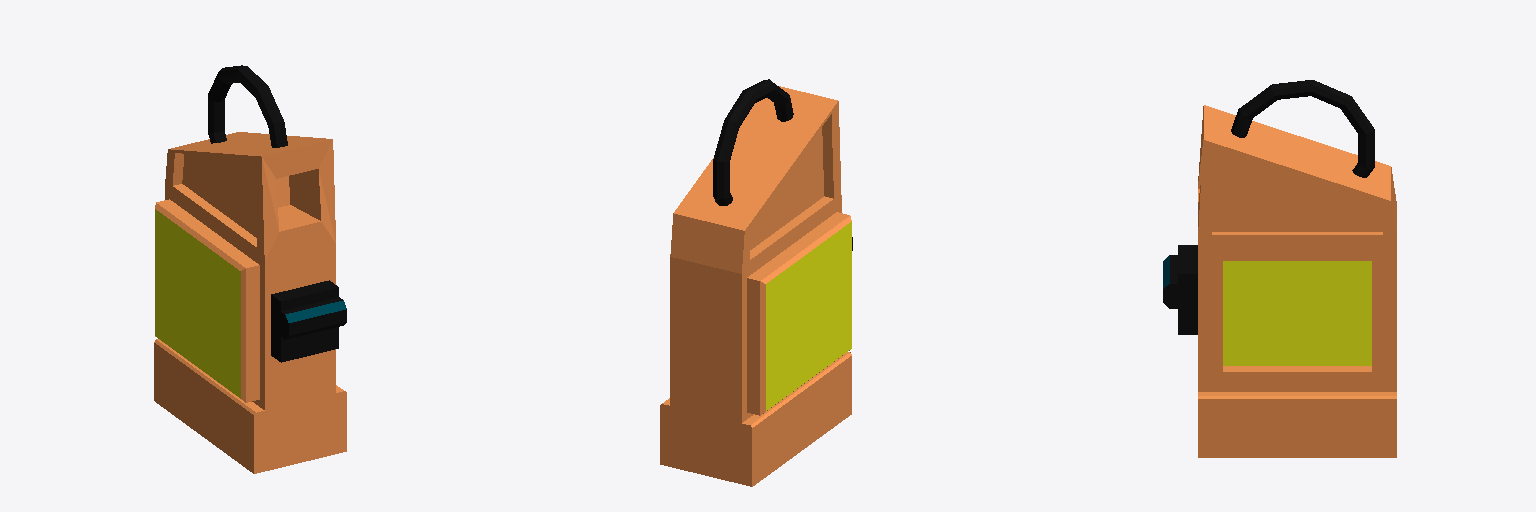
The model's file is Battery_Dispencer.obj.
The picture shows the model from 3 angles: view 1: azimuth 30°, elevation 25°; view 2: azimuth 150°, elevation 25°; view 3: azimuth 270°, elevation 25°; orthographic projection.
Visible parts, largest first — view 1: CONTROL_BOX, DISPENCER_HANDLE; view 2: CONTROL_BOX, DISPENCER_HANDLE; view 3: CONTROL_BOX, DISPENCER_HANDLE.
Part boxes in pixels (bbox=[...]): CONTROL_BOX: bbox=[154, 132, 346, 473]; DISPENCER_HANDLE: bbox=[208, 65, 287, 147]; CONTROL_BOX: bbox=[660, 86, 852, 486]; DISPENCER_HANDLE: bbox=[713, 79, 793, 205]; CONTROL_BOX: bbox=[1163, 105, 1396, 457]; DISPENCER_HANDLE: bbox=[1231, 80, 1374, 177].
Bounding box in the file's own units: 1.7 × 5.81 × 3.48.